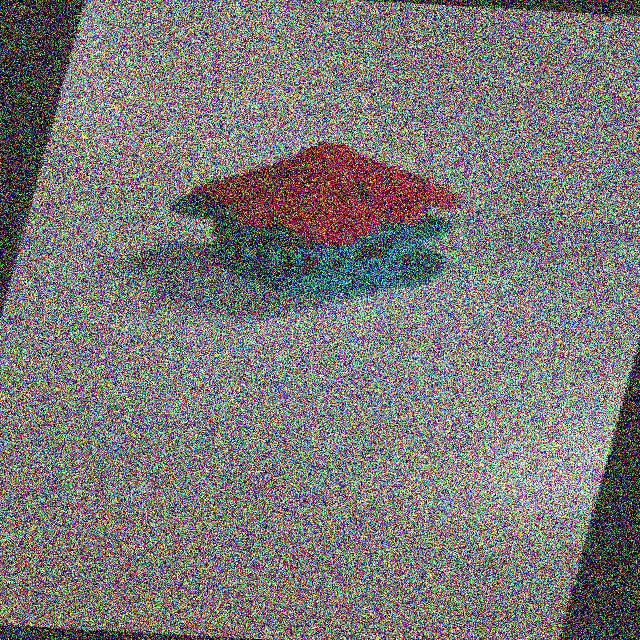House: (99, 113, 502, 351)
